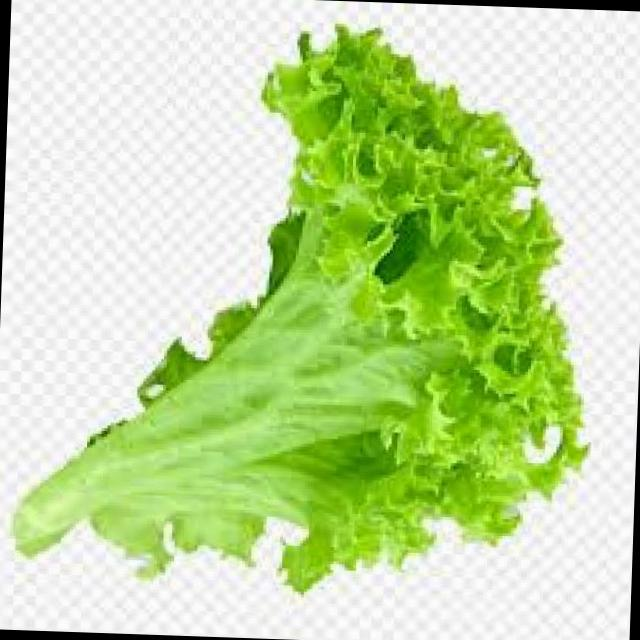Lettuce-Ready-to-Harvest: (14, 27, 586, 590)
